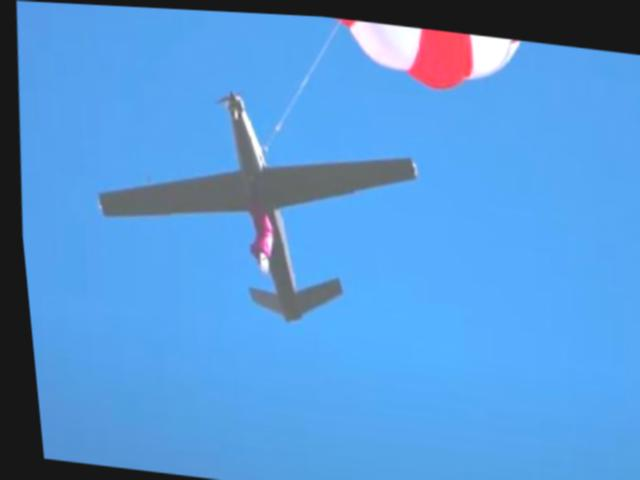iha: (76, 73, 431, 334)
